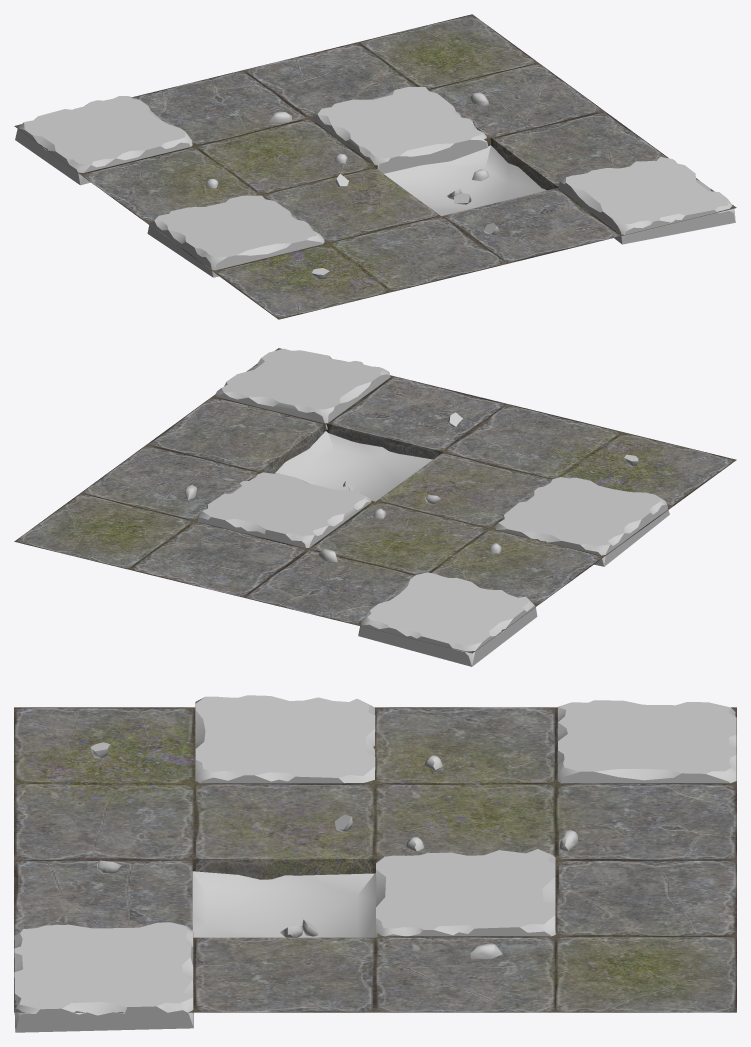
File: Floor_Lvl2_5.fbx
The picture shows the model from 3 angles, top to bottom: view 1: azimuth 30°, elevation 25°; view 2: azimuth 150°, elevation 25°; view 3: azimuth 270°, elevation 25°; orthographic projection. The views are drawn at different scales.
Visible parts, largest first — view 1: StoneFloor_Details.004; view 2: StoneFloor_Details.004; view 3: StoneFloor_Details.004.
Boxes of the visible parts, x1,y1,x2,y2 form: StoneFloor_Details.004: (14,14,736,319); StoneFloor_Details.004: (14,348,736,666); StoneFloor_Details.004: (14,695,736,1032).
Bounding box in the file's own units: 382 × 31.87 × 382.
